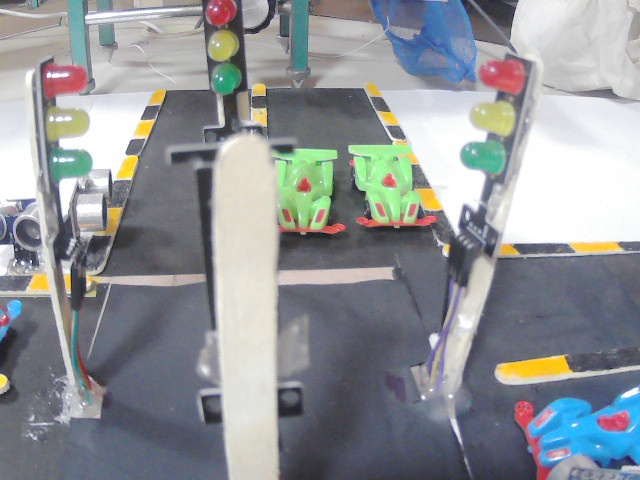car: (515, 395, 640, 462), (350, 138, 427, 241), (272, 142, 345, 241), (0, 299, 18, 368)
traffic_light: (39, 68, 97, 183), (471, 56, 521, 187), (200, 1, 250, 96)
uno_breadboard: (0, 197, 41, 261), (80, 173, 105, 252), (544, 468, 640, 480)
